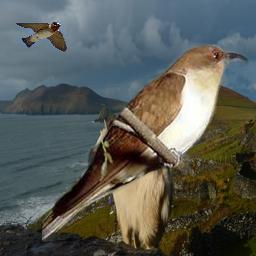Cuckoo: (42, 42, 250, 242)
Swallow: (15, 22, 67, 52)
